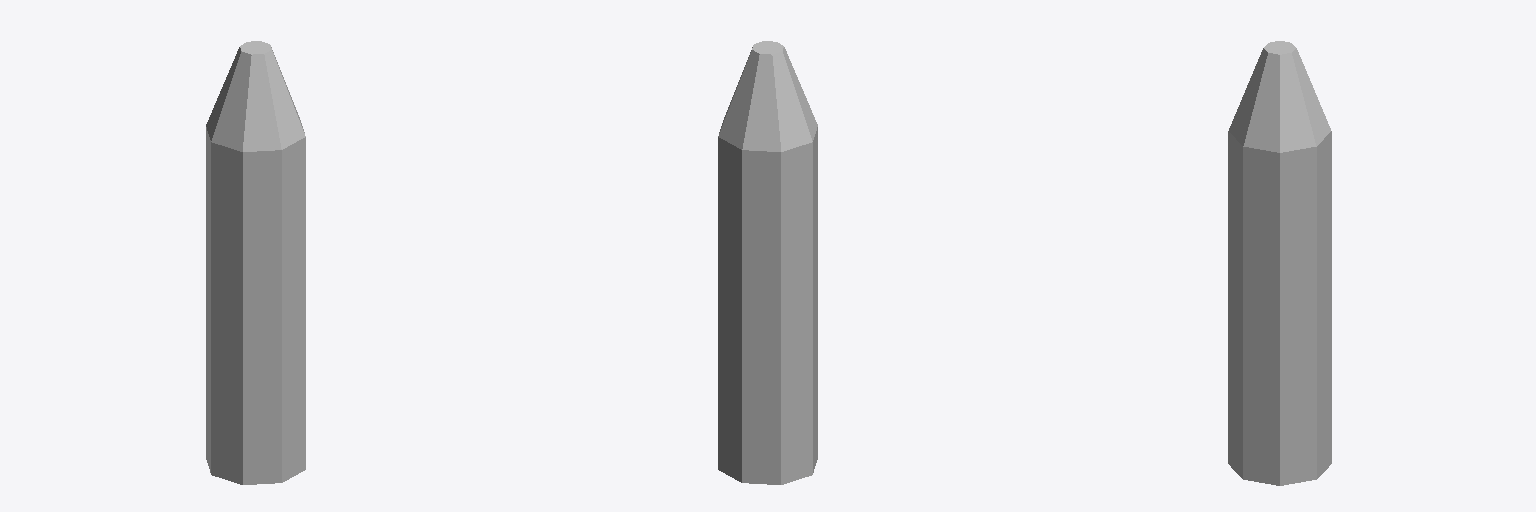
File: bulet.obj
The picture shows the model from 3 angles: view 1: azimuth 30°, elevation 25°; view 2: azimuth 150°, elevation 25°; view 3: azimuth 270°, elevation 25°; orthographic projection.
Visible parts, largest first — view 1: Cube.003; view 2: Cube.003; view 3: Cube.003.
Part boxes in pixels (bbox=[...]): Cube.003: bbox=[206, 41, 305, 484]; Cube.003: bbox=[718, 41, 817, 484]; Cube.003: bbox=[1228, 41, 1331, 485].
Bounding box in the file's own units: 1.21 × 5.37 × 1.21.